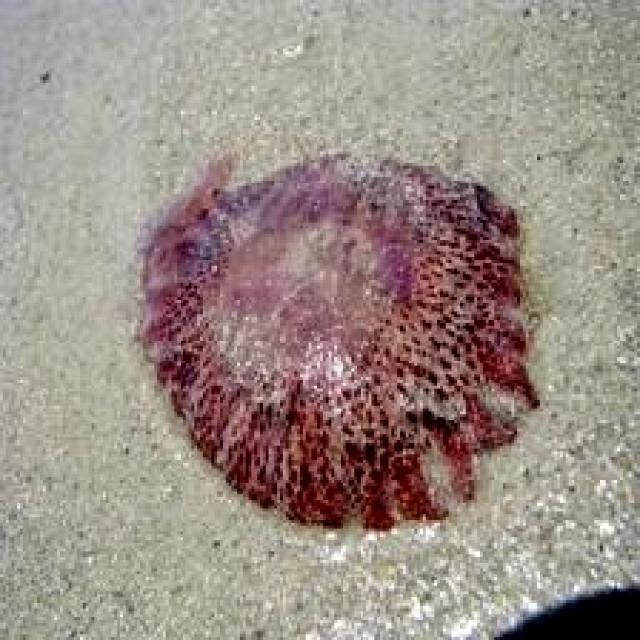Box-jellyfish: (131, 146, 543, 531)
